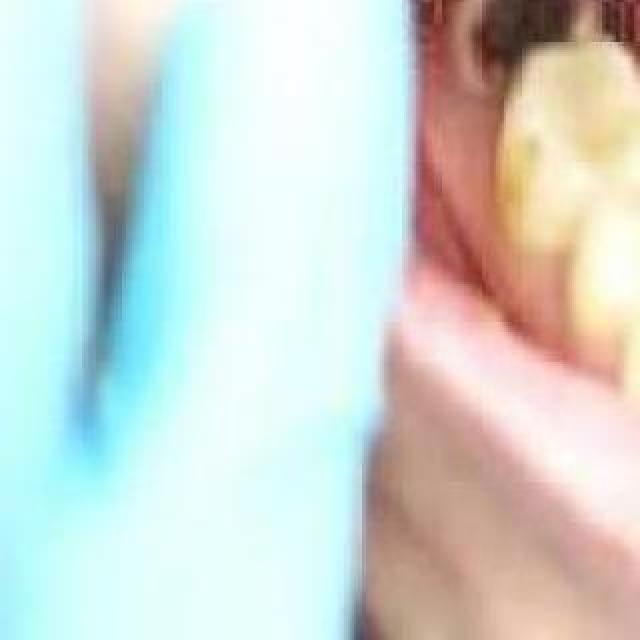cavities: (458, 0, 576, 66)
stains: (489, 138, 579, 234)
